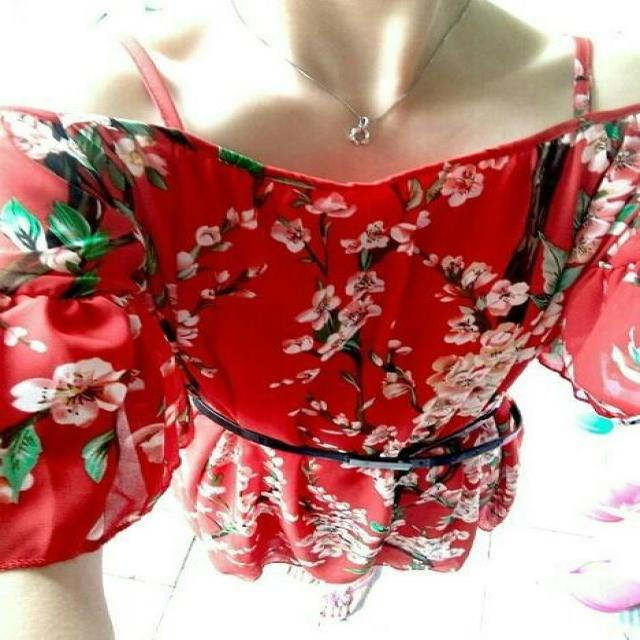long sleeve dress: (2, 34, 639, 586)
